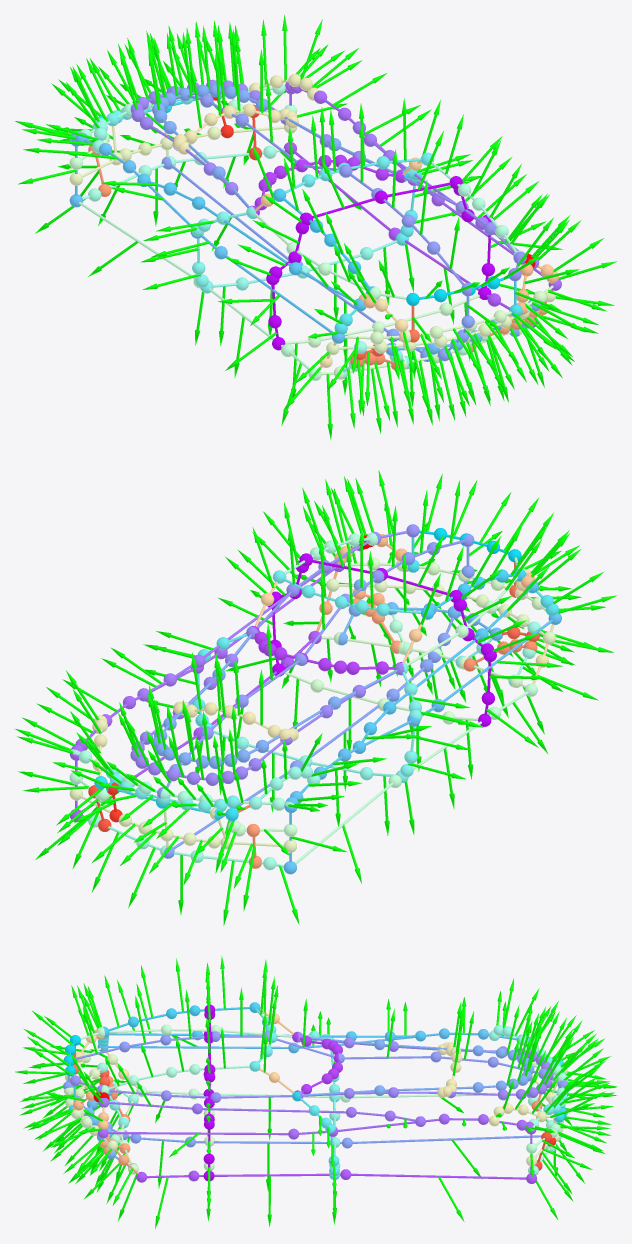
The model's file is t2f_car_93.gltf.
The picture shows the model from 3 angles, top to bottom: view 1: azimuth 30°, elevation 25°; view 2: azimuth 150°, elevation 25°; view 3: azimuth 270°, elevation 25°; orthographic projection. The views are drawn at different scales.
Size of the model in its own units: 0.5711 by 0.413 by 1.1.
